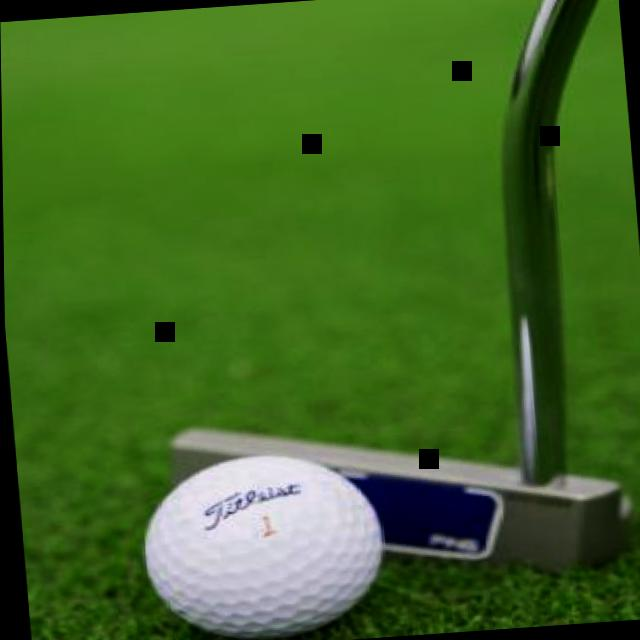golf ball: (116, 436, 395, 640)
